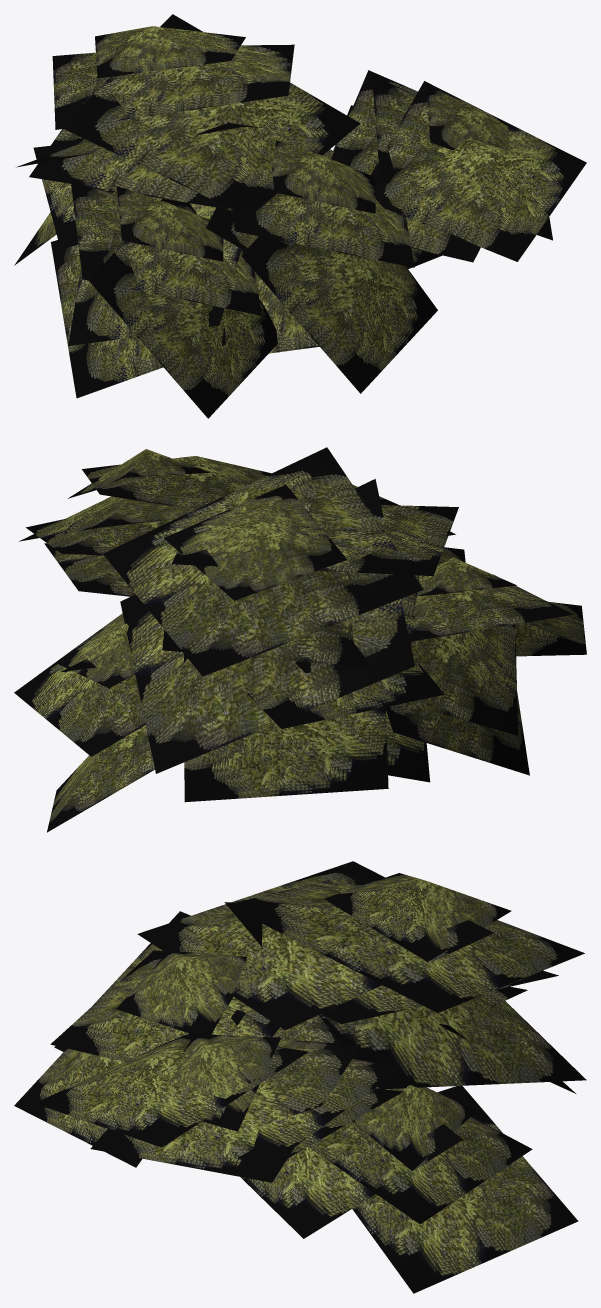
File: inder43.obj
3 renders of one model, top to bottom at view 1: azimuth 30°, elevation 25°; view 2: azimuth 150°, elevation 25°; view 3: azimuth 270°, elevation 25°, orthographic. The views are drawn at different scales.
Visible parts, largest first — view 1: inder43; view 2: inder43; view 3: inder43.
Boxes of the visible parts, x1,y1,x2,y2 form: inder43: (14,14,586,418); inder43: (14,447,586,832); inder43: (14,861,586,1293).
Size of the model in its own units: 206 by 122 by 203.
